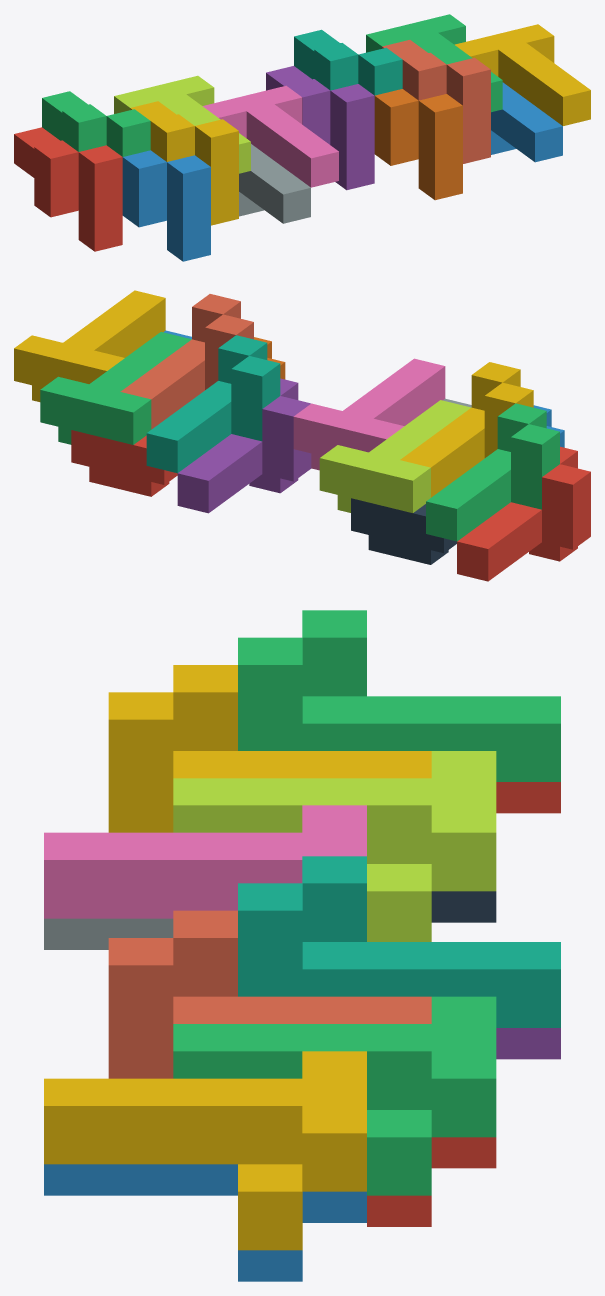
Rendered from tiling.obj.
3 renders of one model, top to bottom at view 1: azimuth 30°, elevation 25°; view 2: azimuth 150°, elevation 25°; view 3: azimuth 270°, elevation 25°, orthographic. The views are drawn at different scales.
Parts seen in each view (by area): view 1: copy_1_domain_1, copy_1_domain_6, copy_1_domain_2, copy_2_domain_8, copy_2_domain_4, copy_1_domain_5, copy_1_domain_4, copy_1_domain_8, copy_1_domain_3, copy_1_domain_7, copy_2_domain_6, copy_2_domain_2 (+2 smaller); view 2: copy_1_domain_7, copy_1_domain_3, copy_1_domain_1, copy_1_domain_5, copy_2_domain_4, copy_2_domain_8, copy_2_domain_3, copy_2_domain_7, copy_1_domain_4, copy_1_domain_8, copy_2_domain_5, copy_2_domain_1; view 3: copy_2_domain_8, copy_2_domain_7, copy_1_domain_3, copy_1_domain_7, copy_2_domain_3, copy_2_domain_4, copy_1_domain_8, copy_1_domain_4, copy_2_domain_6, copy_2_domain_5, copy_2_domain_2, copy_2_domain_1 (+2 smaller).
Part boxes in pixels (<box>): copy_1_domain_1: <box>14,127,122,251</box>; copy_1_domain_6: <box>374,89,462,200</box>; copy_1_domain_2: <box>122,150,210,261</box>; copy_2_domain_8: <box>454,24,590,125</box>; copy_2_domain_4: <box>202,85,338,187</box>; copy_1_domain_5: <box>266,66,374,190</box>; copy_1_domain_4: <box>130,101,238,225</box>; copy_1_domain_8: <box>382,40,490,163</box>; copy_1_domain_3: <box>42,91,150,156</box>; copy_1_domain_7: <box>294,29,402,95</box>; copy_2_domain_6: <box>491,82,562,162</box>; copy_2_domain_2: <box>239,144,310,223</box>; copy_1_domain_7: <box>146,335,280,473</box>; copy_1_domain_3: <box>426,403,559,541</box>; copy_1_domain_1: <box>457,446,590,581</box>; copy_1_domain_5: <box>177,378,311,513</box>; copy_2_domain_4: <box>293,358,445,470</box>; copy_2_domain_8: <box>14,290,165,401</box>; copy_2_domain_3: <box>319,400,471,512</box>; copy_2_domain_7: <box>40,332,191,444</box>; copy_1_domain_4: <box>400,362,533,497</box>; copy_1_domain_8: <box>120,294,253,429</box>; copy_2_domain_5: <box>71,430,177,496</box>; copy_2_domain_1: <box>351,498,456,564</box>; copy_2_domain_8: <box>44,1051,366,1250</box>; copy_2_domain_7: <box>173,996,496,1195</box>; copy_1_domain_3: <box>238,610,560,781</box>; copy_1_domain_7: <box>238,856,560,1027</box>; copy_2_domain_3: <box>173,751,496,941</box>; copy_2_domain_4: <box>44,805,366,918</box>; copy_1_domain_8: <box>108,910,431,1078</box>; copy_1_domain_4: <box>108,665,431,832</box>; copy_2_domain_6: <box>44,1164,366,1281</box>; copy_2_domain_5: <box>367,1137,496,1226</box>; copy_2_domain_2: <box>44,918,173,949</box>; copy_2_domain_1: <box>431,891,496,922</box>.
Size of the model in its own units: 18 by 4 by 8.
